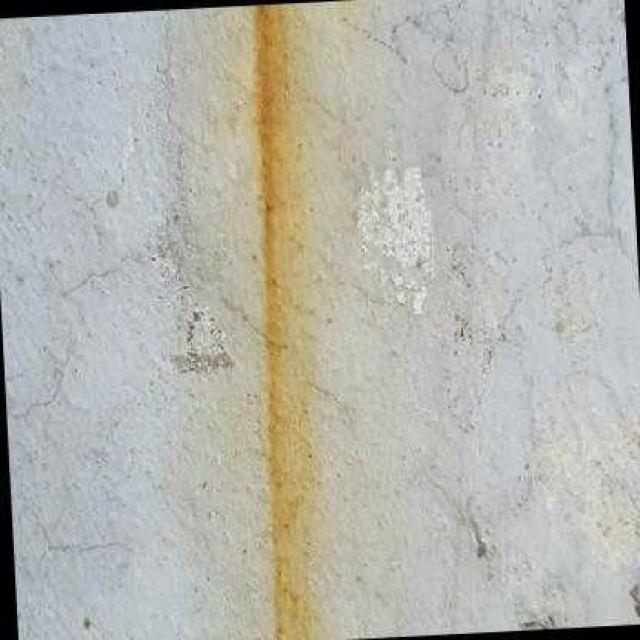D00: (17, 490, 114, 565), (224, 298, 282, 352)
